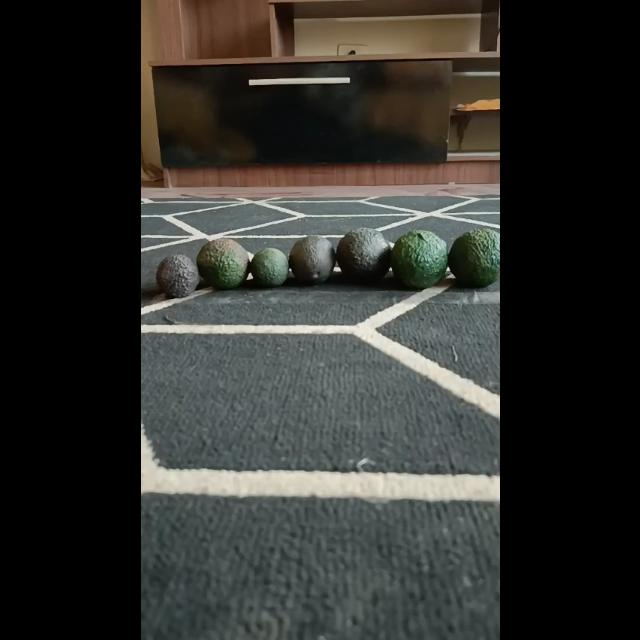Primera: (389, 229, 448, 289), (446, 228, 498, 288), (336, 228, 392, 282)
Segunda: (196, 238, 250, 290), (288, 236, 336, 284)
Tercera: (154, 253, 200, 299), (248, 246, 288, 288)
